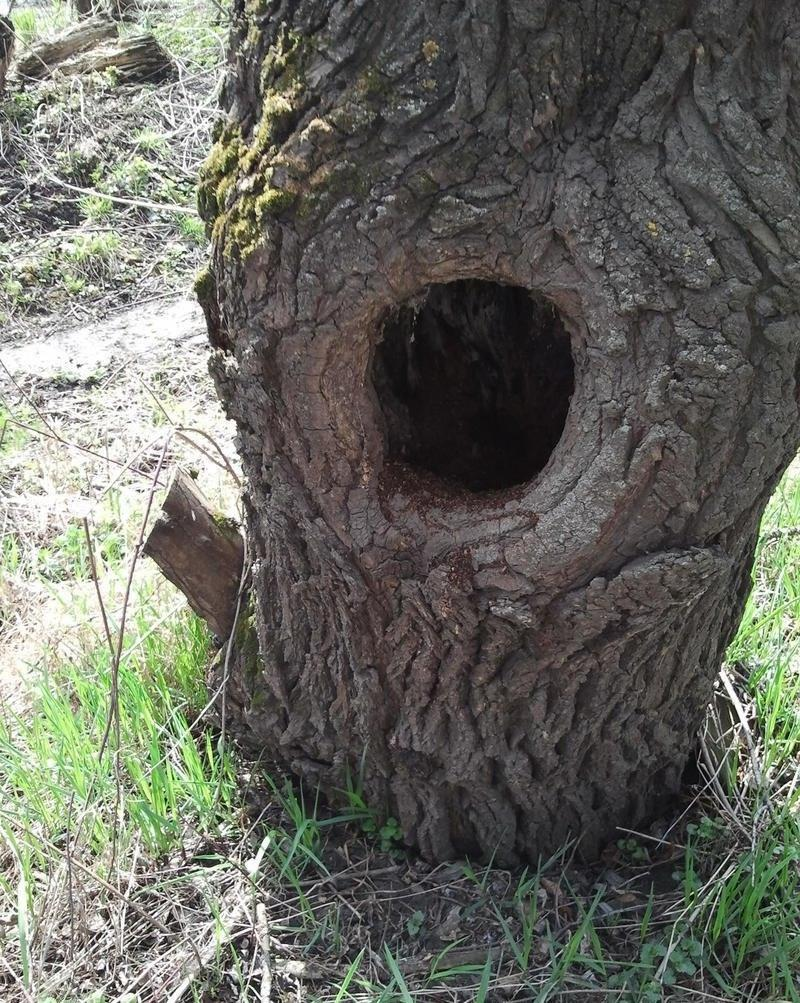hollow: (372, 280, 573, 490)
